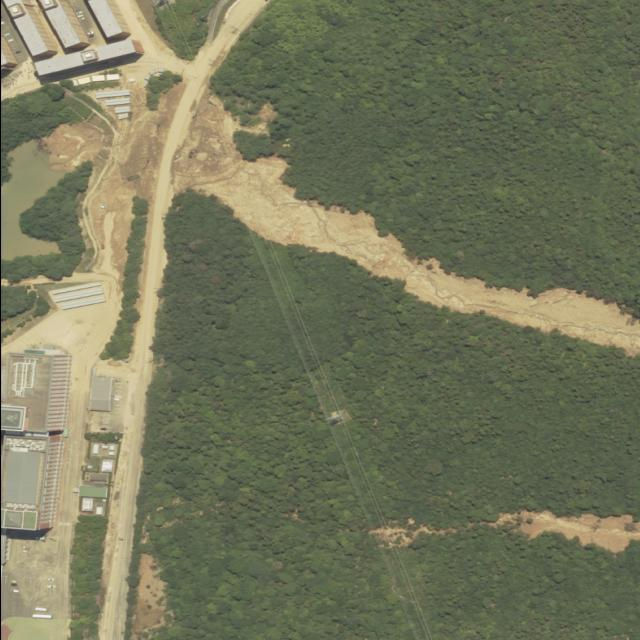landslide: (172, 95, 640, 355), (368, 511, 640, 553)
